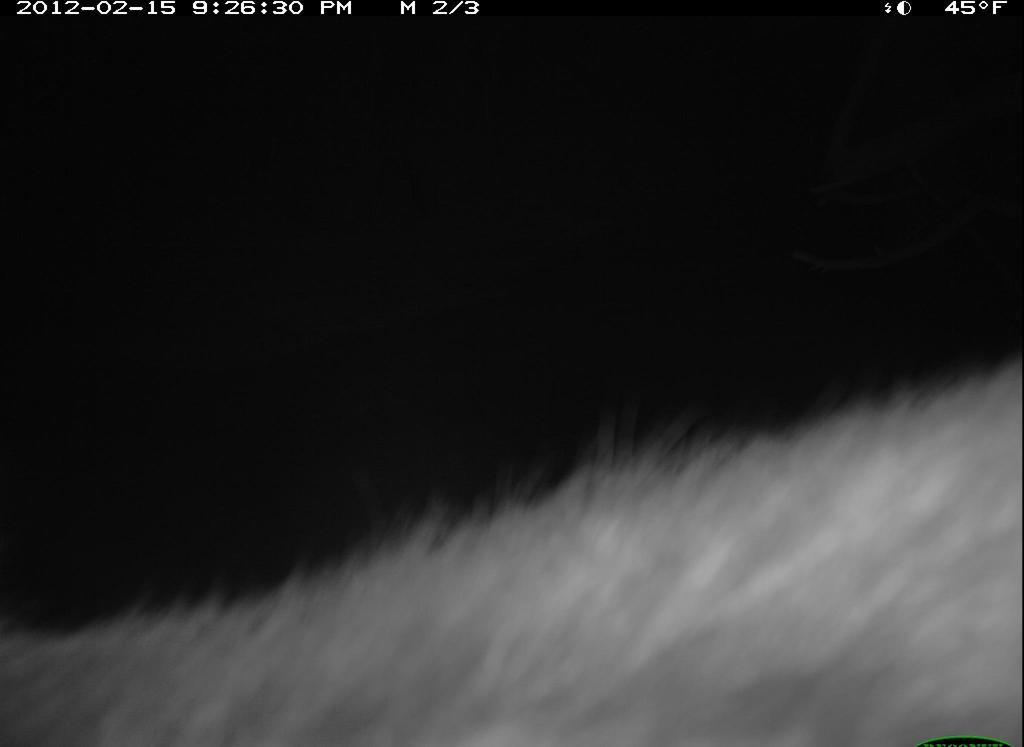raccoon: (16, 350, 1023, 744)
